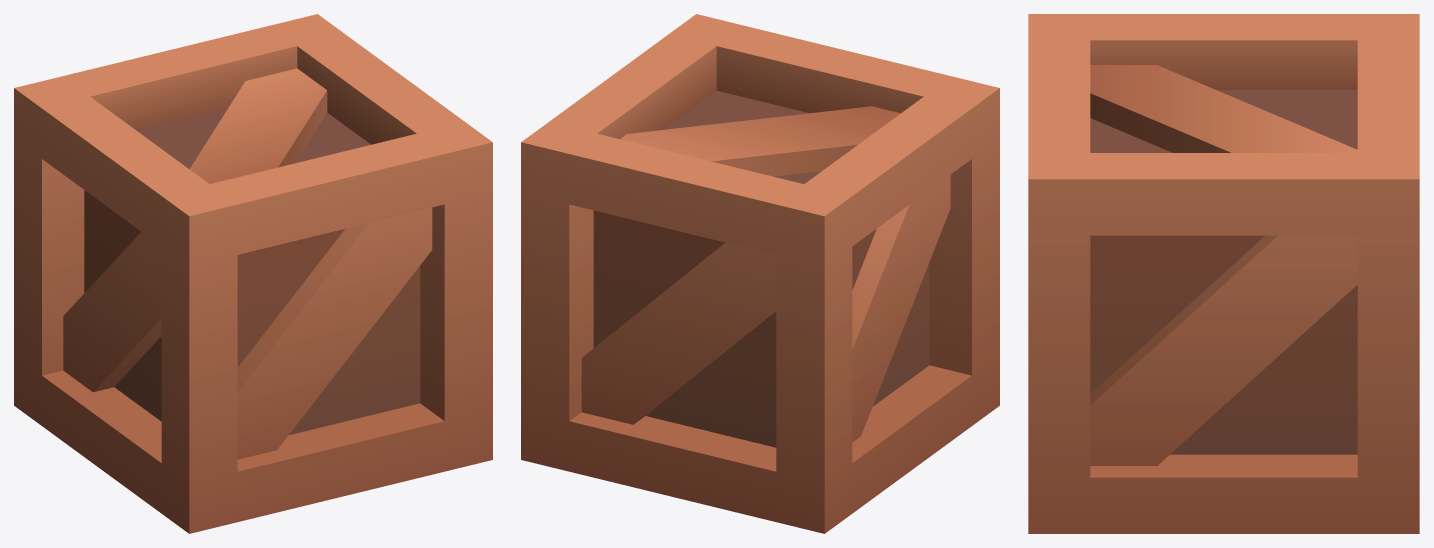
File: kenney-platformer-crate.glb
The picture shows the model from 3 angles, left to right: view 1: azimuth 30°, elevation 25°; view 2: azimuth 150°, elevation 25°; view 3: azimuth 270°, elevation 25°; orthographic projection. The views are drawn at different scales.
Visible parts, largest first — view 1: crate; view 2: crate; view 3: crate.
Boxes of the visible parts, left/top/right/bottom form: crate: left=14, top=14, right=492, bottom=533; crate: left=521, top=14, right=999, bottom=533; crate: left=1028, top=14, right=1419, bottom=533.
Size of the model in its own units: 0.5 by 0.5 by 0.5.
Materials: 1 (1 with a texture image).
